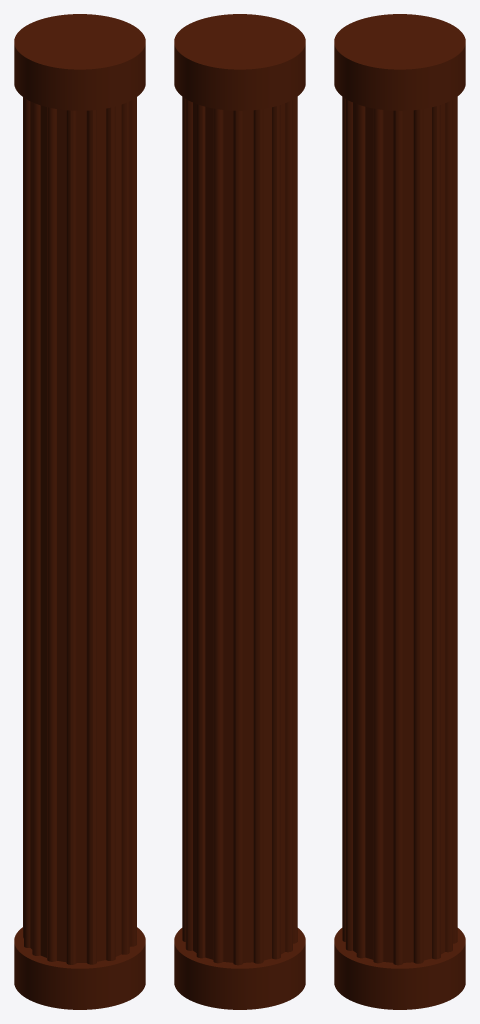
The model's file is Pillar.glb.
3 renders of one model, left to right at view 1: azimuth 30°, elevation 25°; view 2: azimuth 150°, elevation 25°; view 3: azimuth 330°, elevation 25°, orthographic.
Parts seen in each view (by area): view 1: Pillar.002; view 2: Pillar.002; view 3: Pillar.002.
Part boxes in pixels (bbox=[...]): Pillar.002: bbox=[14, 14, 145, 1009]; Pillar.002: bbox=[174, 14, 305, 1009]; Pillar.002: bbox=[334, 14, 465, 1009].
Size of the model in its own units: 2.95 by 23.24 by 2.95.
